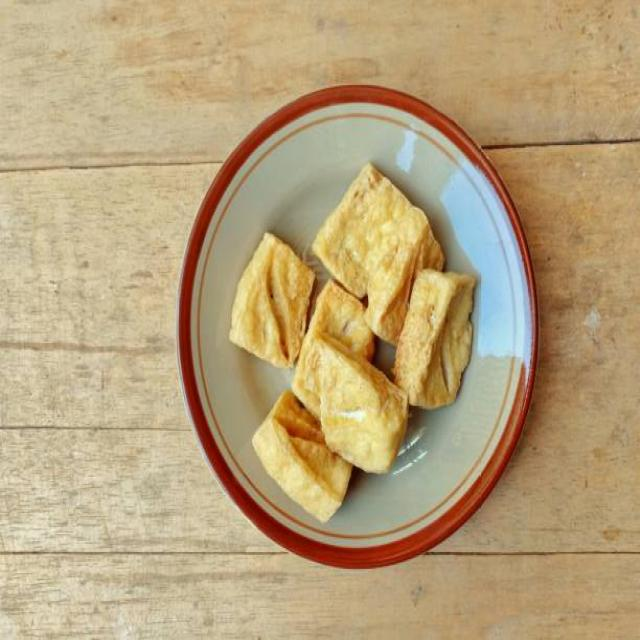Tofu Block: (255, 399, 365, 517), (320, 165, 412, 292), (322, 338, 404, 471), (396, 270, 476, 406), (228, 236, 310, 365)
